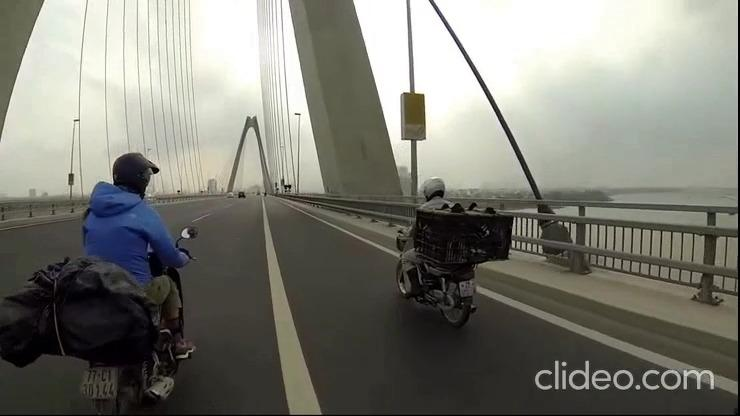helmet: (112, 152, 160, 201), (422, 176, 446, 203)
